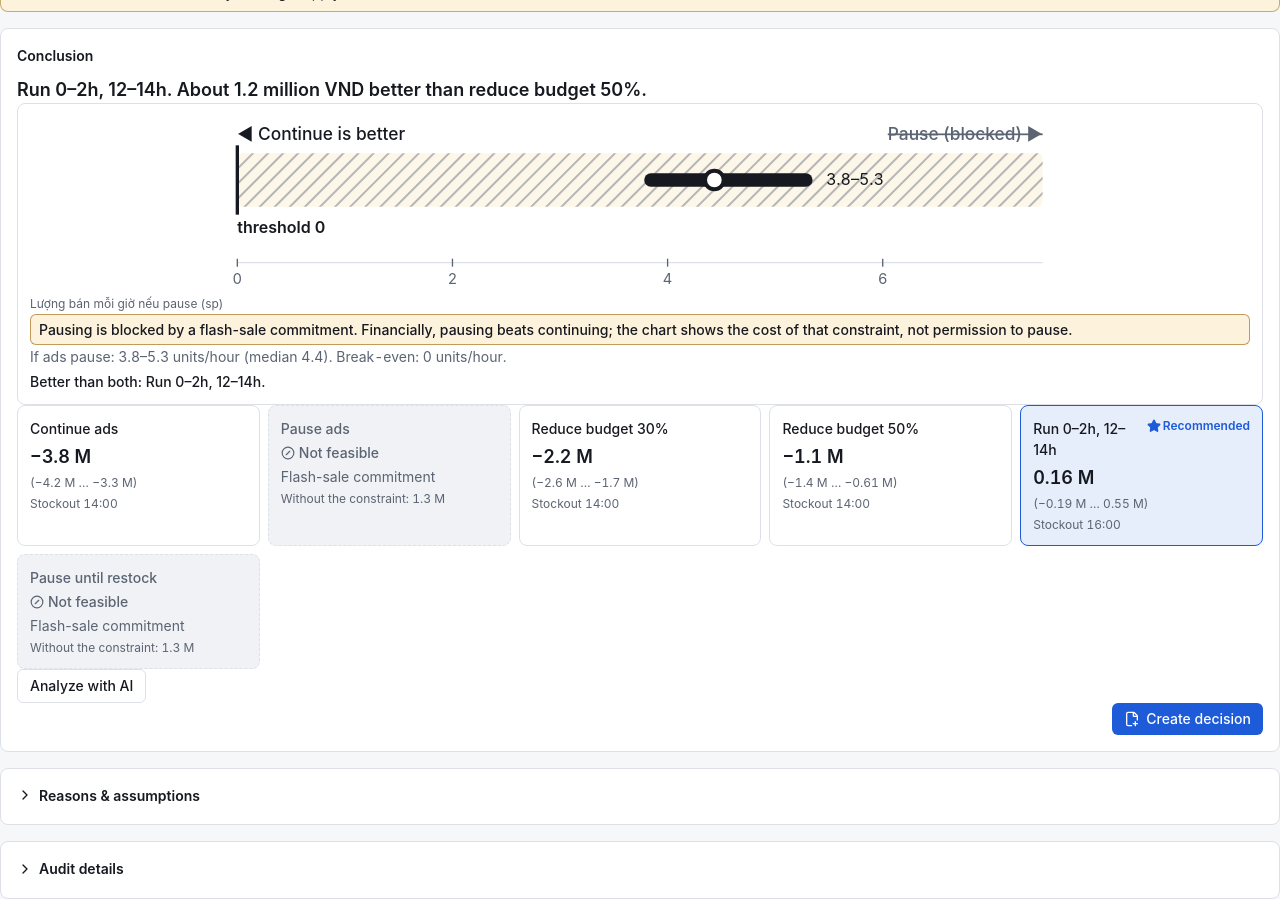
Scenario: Compare screen · CD002 on 11.11 (API snapshot fixture) › tier 2: reasons with clickable numbers and the flip condition
The width and height of the screenshot is (1280, 899).
(page scrolled)
What coordinates should you click on to do the following:
click the button "Reasons & assumptions"
I would click on:
 (108, 795)
Its box is left=13, top=781, right=204, bottom=810.
(page scrolled)
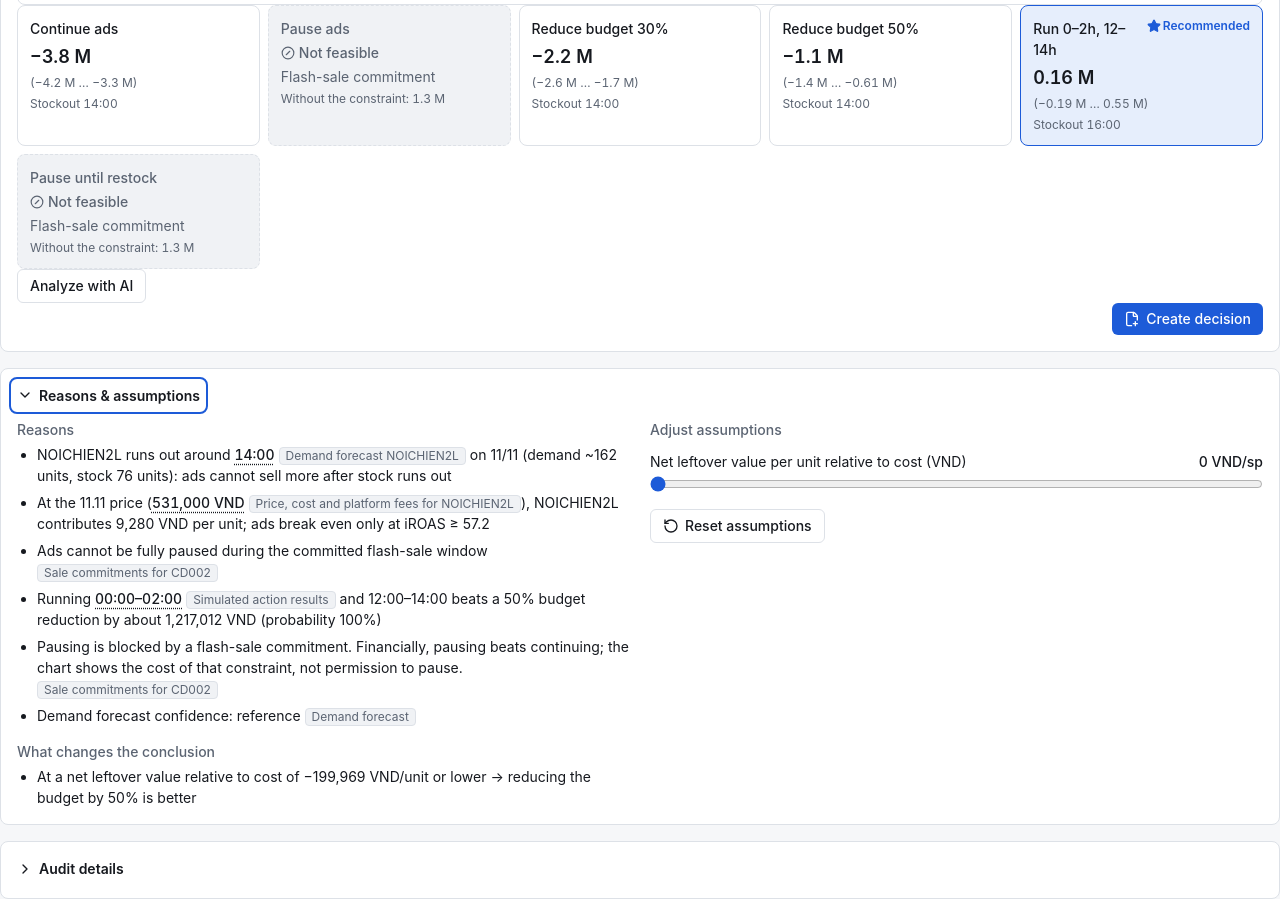
Expected: the list item "contributes 9,280 VND per unit; ads break even only at iROAS ≥ 57.2" is shown, left=37, top=494, right=619, bottom=532
What coordinates should you click on to do the following:
click the button "531,000 VND Price, cost and platform fees for NOICHIEN2L"
I would click on:
 (336, 503)
Its box is left=152, top=492, right=521, bottom=513.
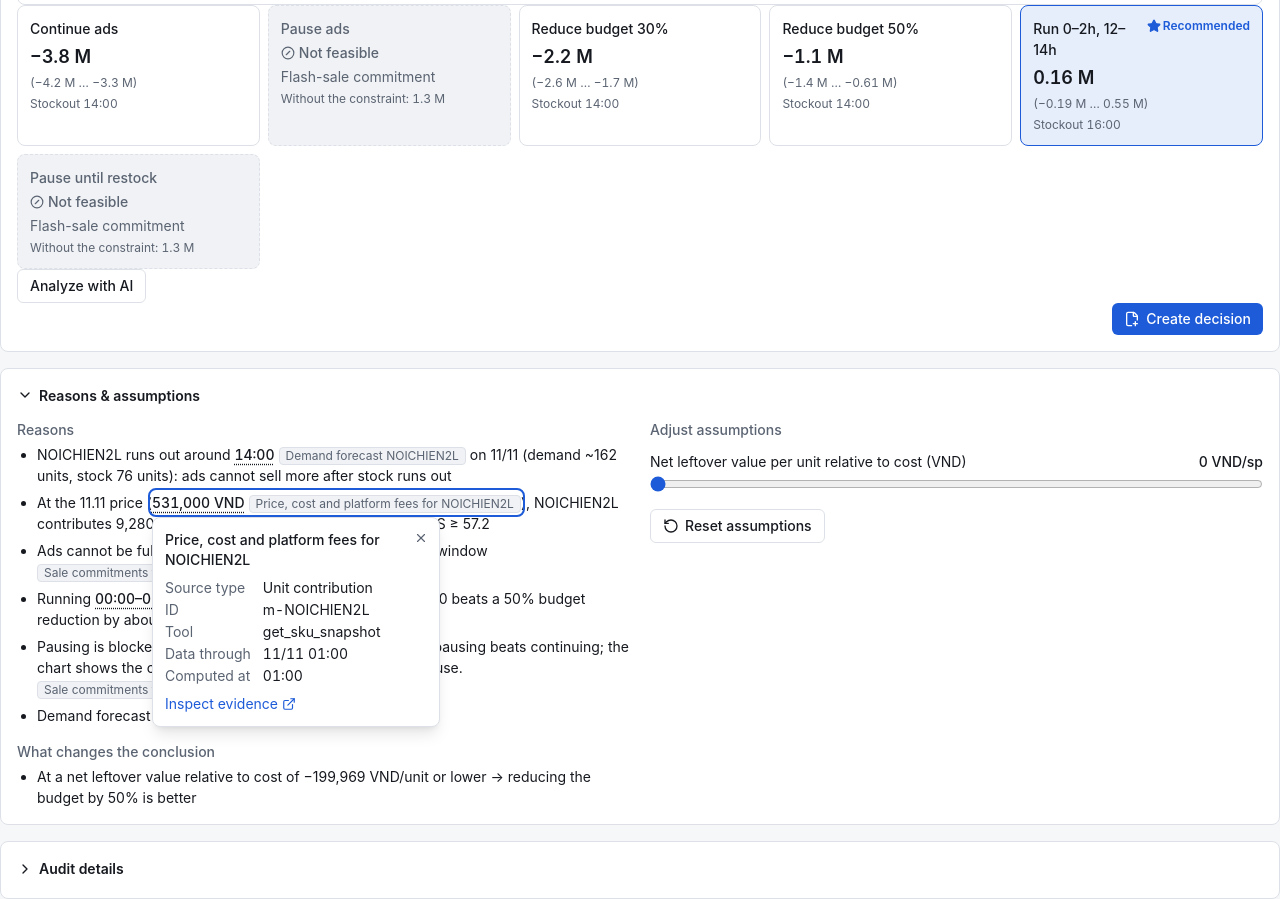
Expected: the slider labelled "Net leftover value per unit relative to cost (VND) 0 VND/sp" is shown, left=650, top=476, right=1263, bottom=492
Expected: the dialog named "Source: Price, cost and platform fees for NOICHIEN2L" is shown, left=152, top=517, right=440, bottom=727
